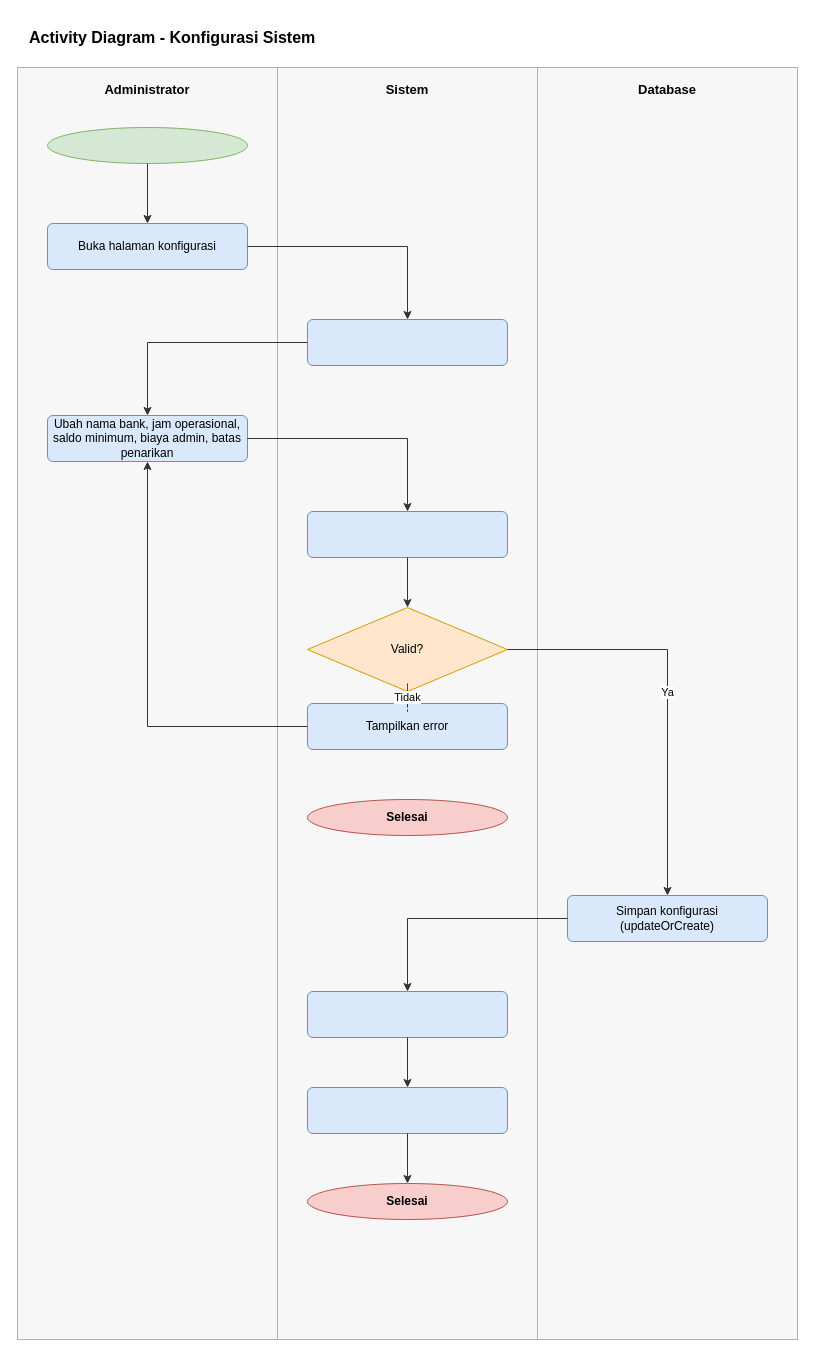
Some shapes in this 815 by 1357 pixel diagram are drawn without their labels. Here are the shapes that lost their labels. From the top down, the centre of each, then its label:
At point 147,145: "Mulai".
At point 407,342: "Tampilkan konfigurasi saat ini".
At point 407,534: "Validasi input".
At point 407,1014: "Catat audit log".
At point 407,1110: "Tampilkan konfirmasi sukses".
